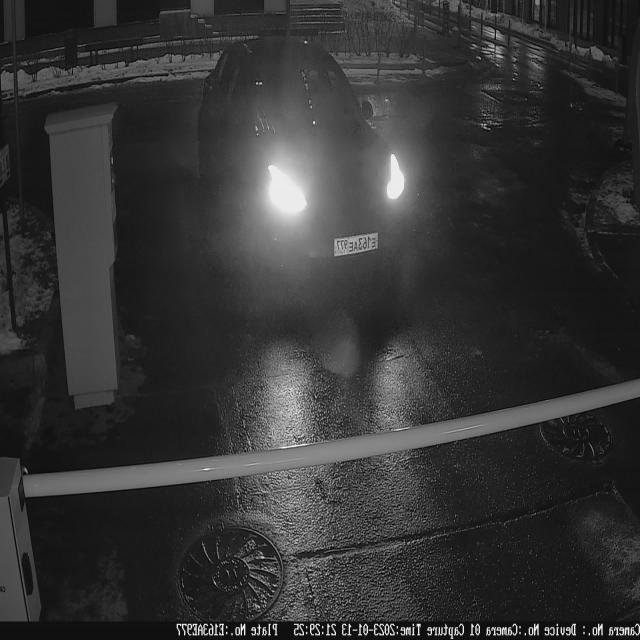car-plate-numbers: (331, 229, 382, 264)
